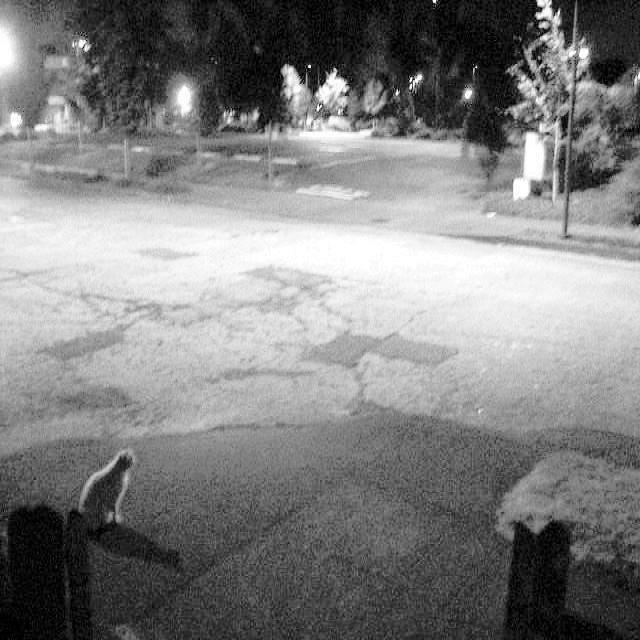Cat: (74, 444, 151, 546)
